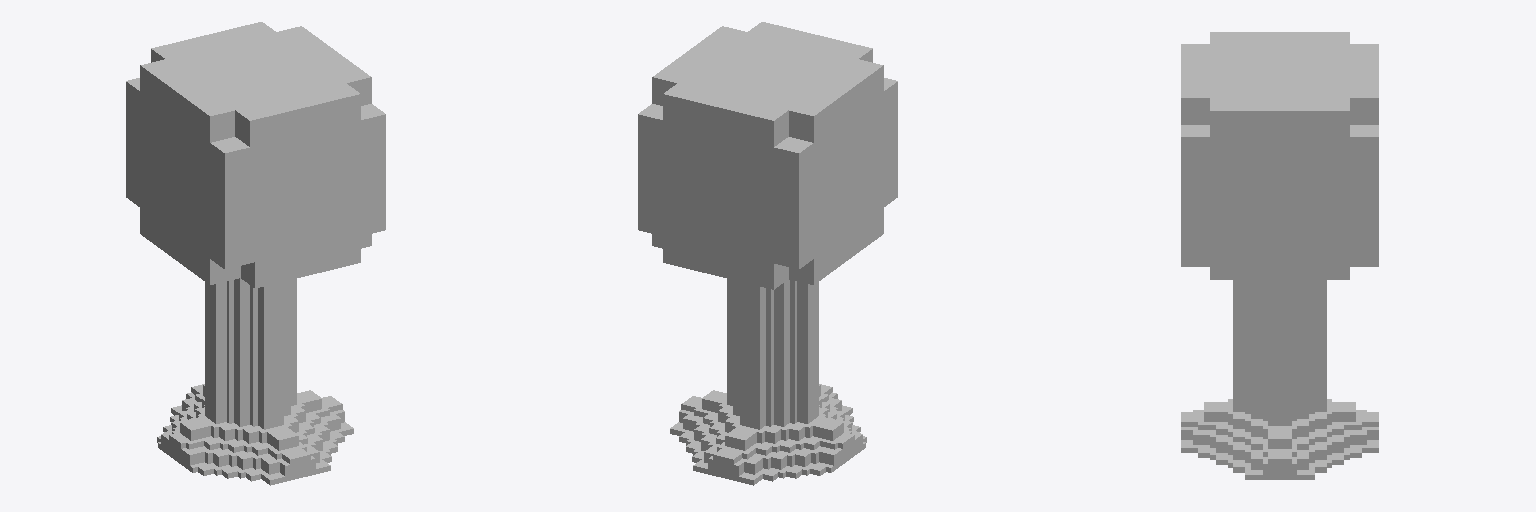
The model's file is Tree.obj.
3 views of the same model, side by side, from view 1: azimuth 30°, elevation 25°; view 2: azimuth 150°, elevation 25°; view 3: azimuth 270°, elevation 25° (orthographic).
Parts seen in each view (by area): view 1: object 1; view 2: object 1; view 3: object 1.
Part boxes in pixels (bbox=[...]): object 1: bbox=[126, 22, 385, 485]; object 1: bbox=[638, 22, 897, 485]; object 1: bbox=[1181, 32, 1378, 479].
Size of the model in its own units: 3.2 by 7 by 3.4.